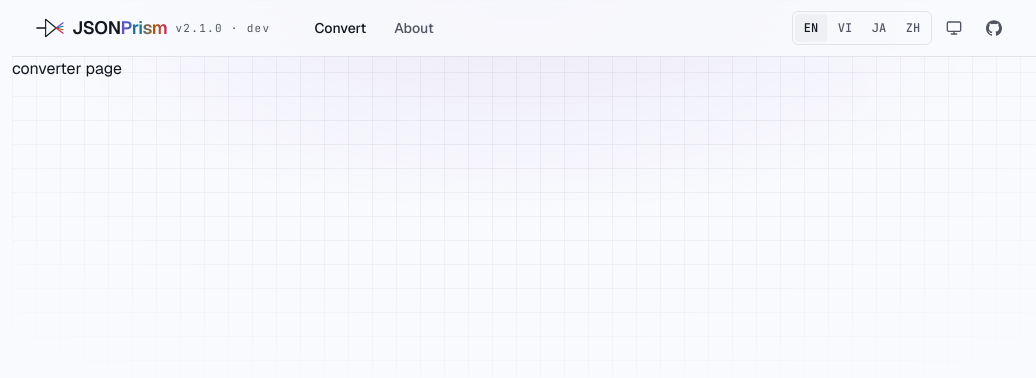
Header › marks the current page in the main navigation
Click the link "About" at (414, 28), box x1=394 y1=19 x2=434 y2=37
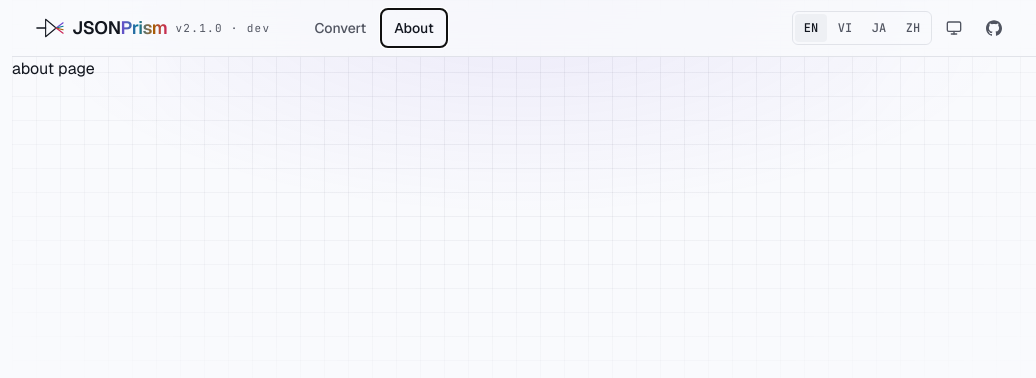
Result: the text "about page" is shown at x1=12 y1=58 x2=95 y2=79
